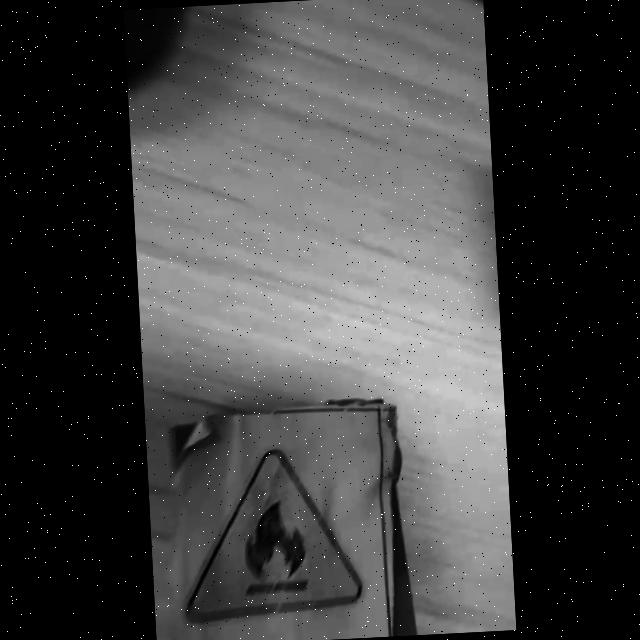Fire: (187, 449, 362, 624)
